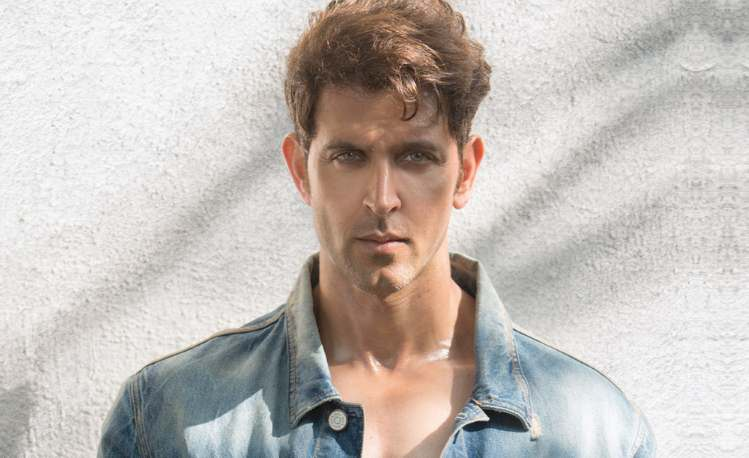bad: (304, 116, 459, 270)
